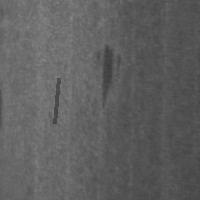inclusion: (92, 40, 125, 113), (52, 76, 60, 125)
